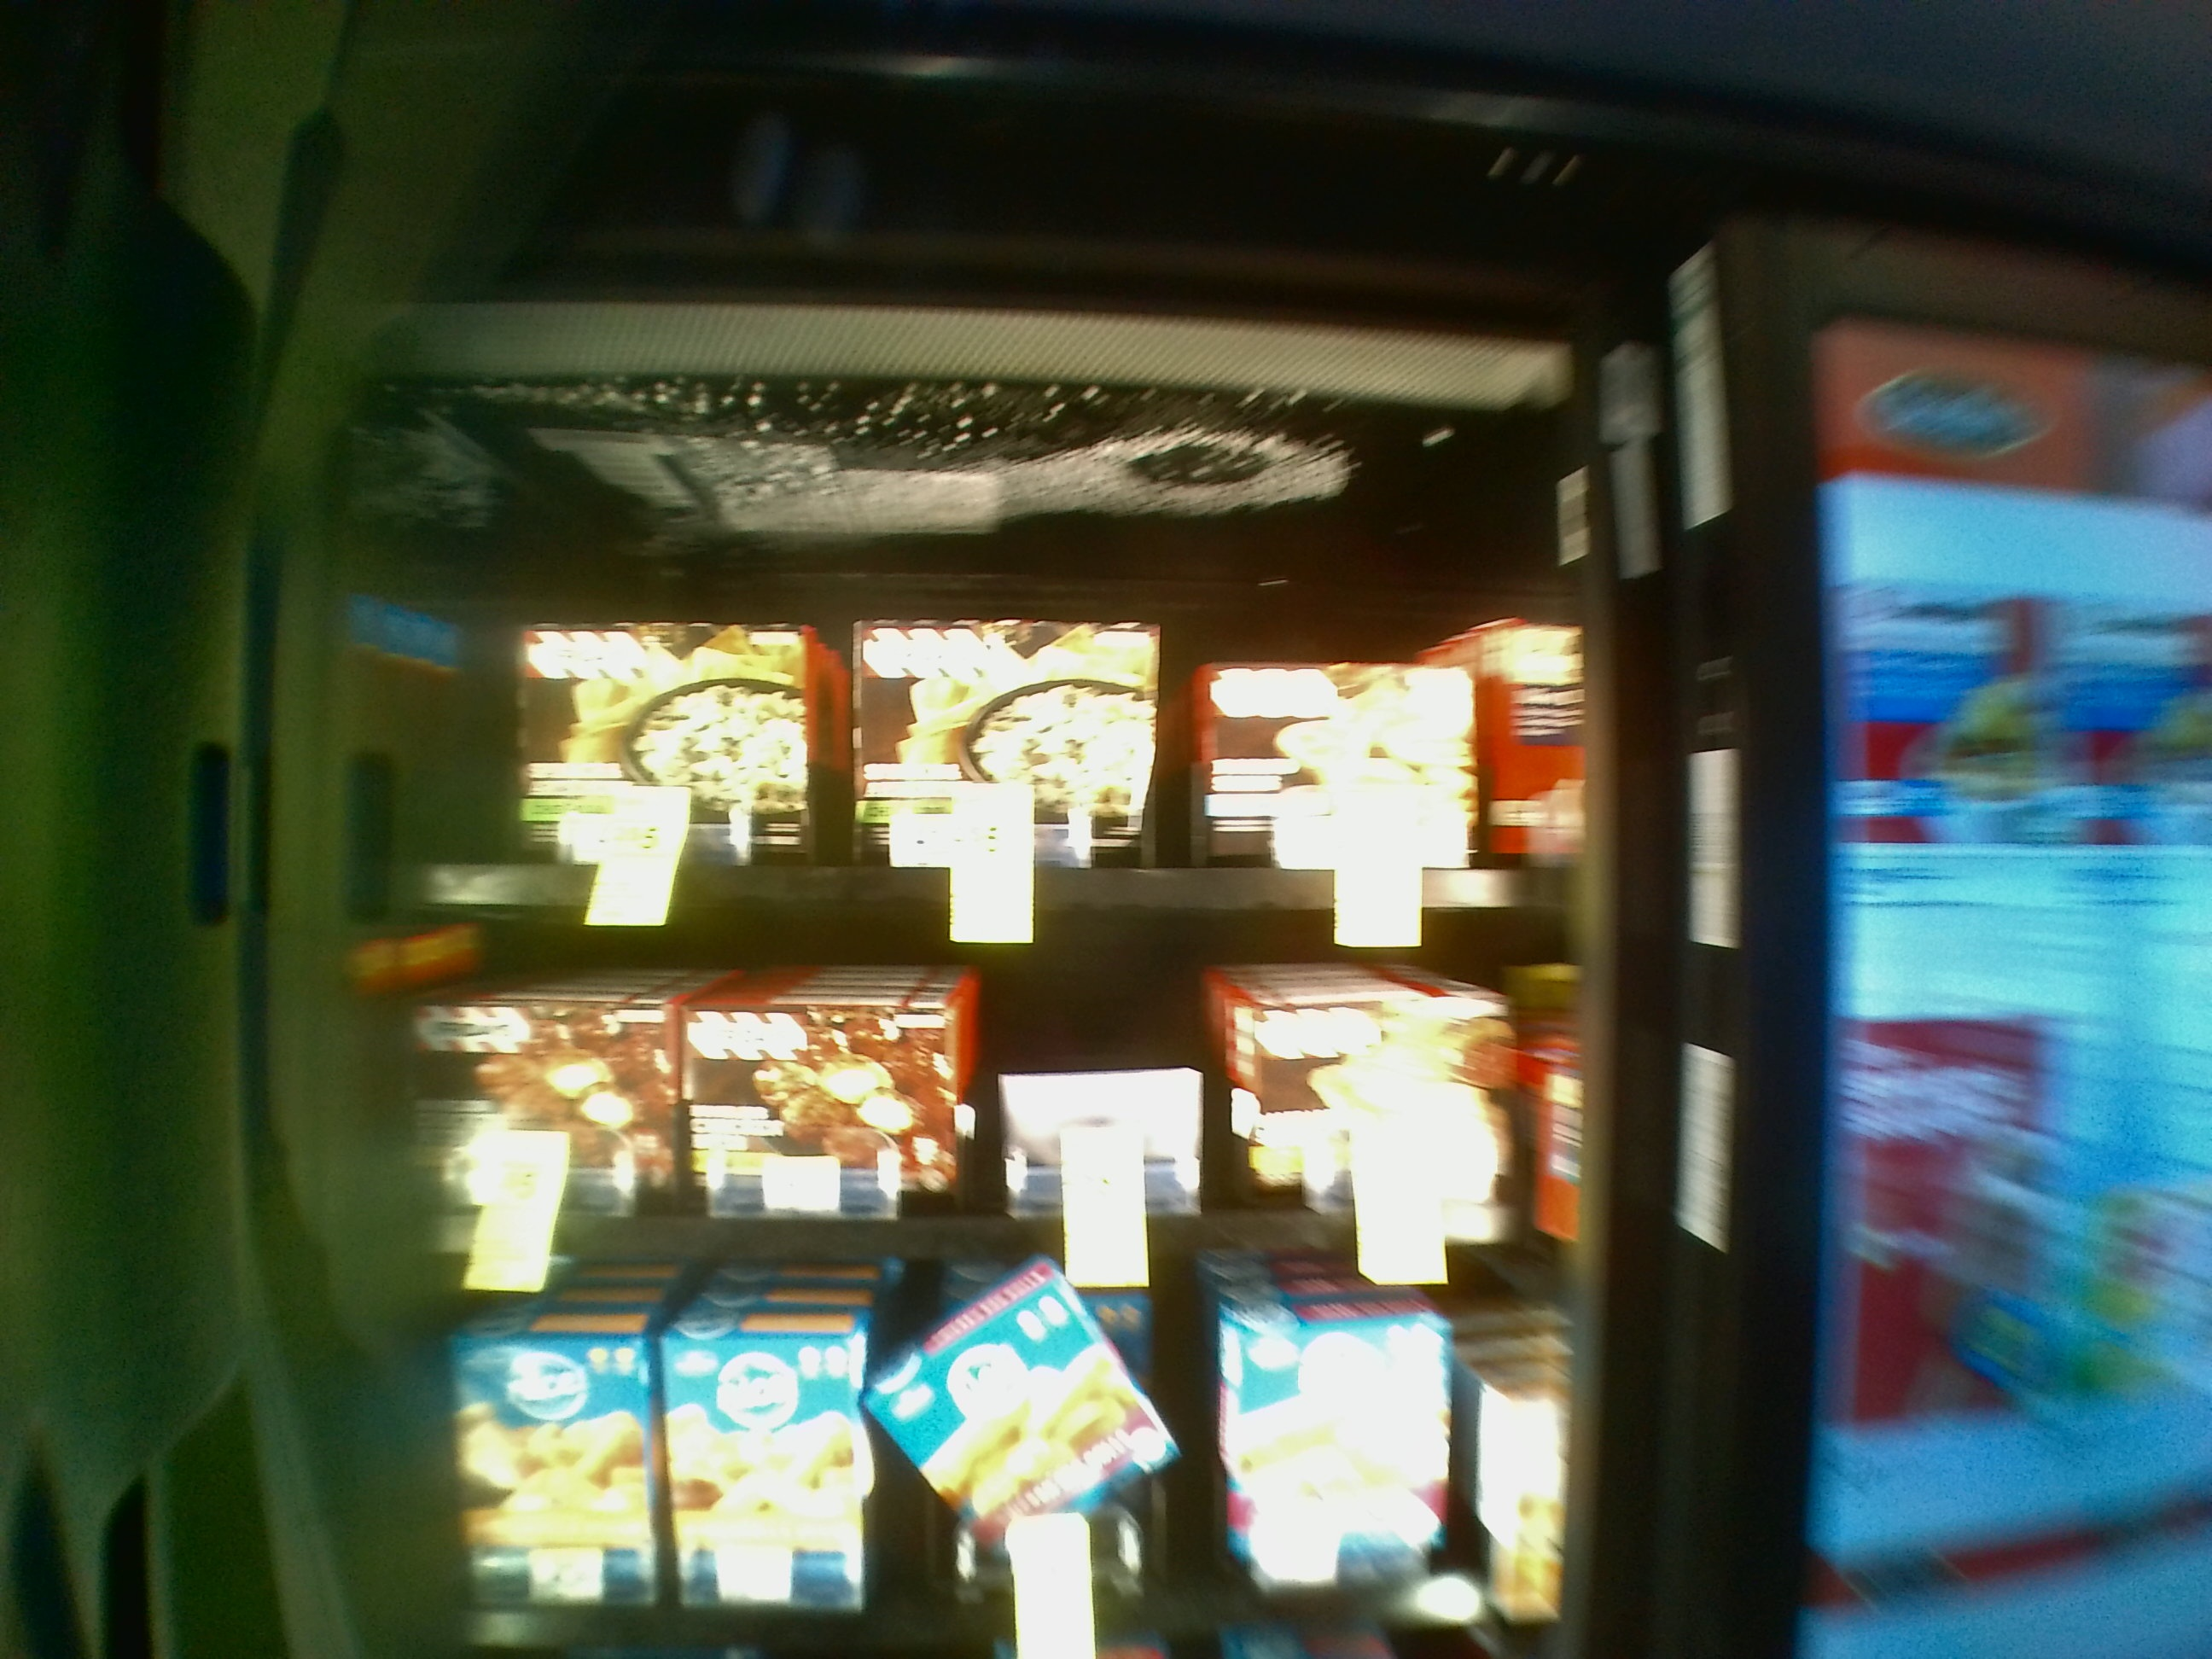shelf: (361, 401, 1571, 913), (366, 922, 1581, 1279)
